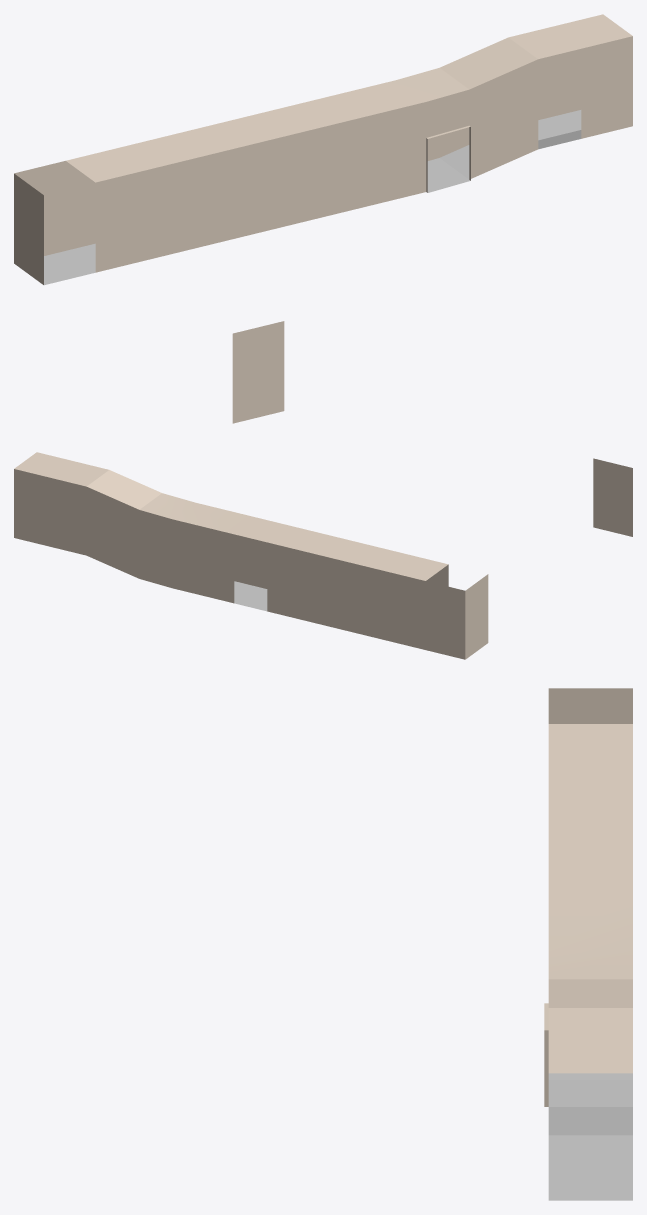
The model's file is L28-Hallway-0.obj.
3 views of the same model, one above another, from view 1: azimuth 30°, elevation 25°; view 2: azimuth 150°, elevation 25°; view 3: azimuth 270°, elevation 25° (orthographic). The views are drawn at different scales.
Parts seen in each view (by area): view 1: L28-Hallway-0; view 2: L28-Hallway-0; view 3: L28-Hallway-0.
Part boxes in pixels (x1,y1,x2,y2): L28-Hallway-0: (14,14,632,423); L28-Hallway-0: (14,452,632,659); L28-Hallway-0: (544,688,632,1200).
Bounding box in the file's own units: 34.2 × 5.85 × 22.
